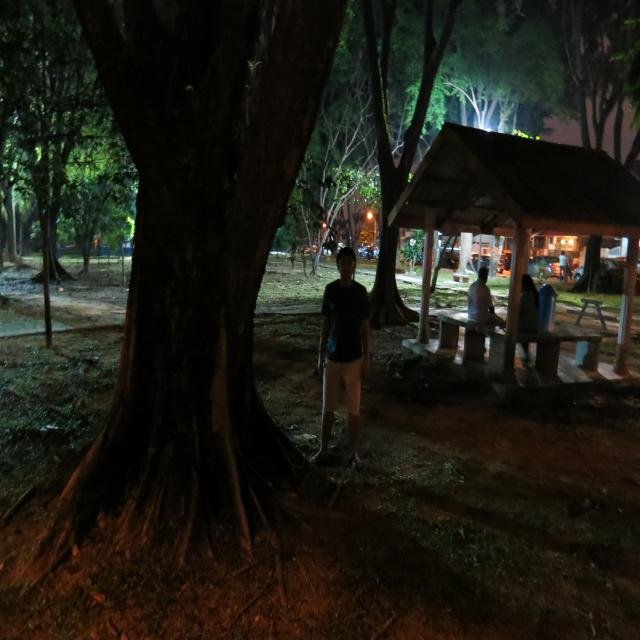People: (315, 239, 369, 489), (463, 254, 496, 373), (515, 264, 540, 372)
chair: (503, 321, 617, 385), (424, 297, 497, 390), (581, 280, 609, 348)
